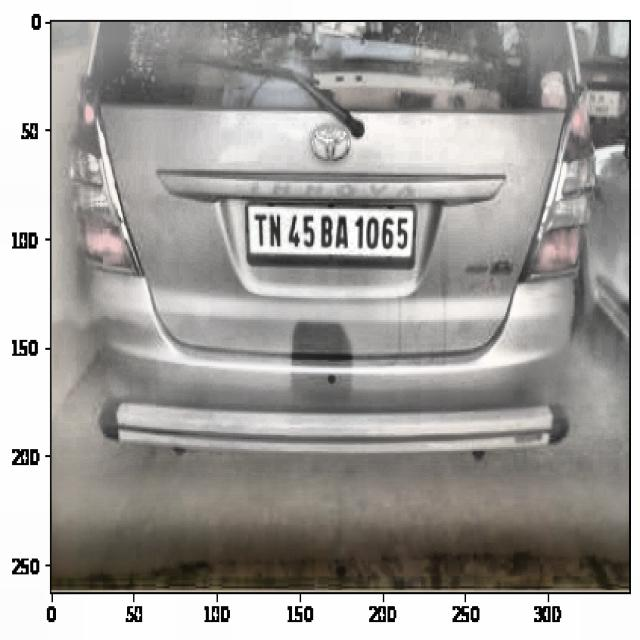license_plate: (247, 204, 412, 259)
